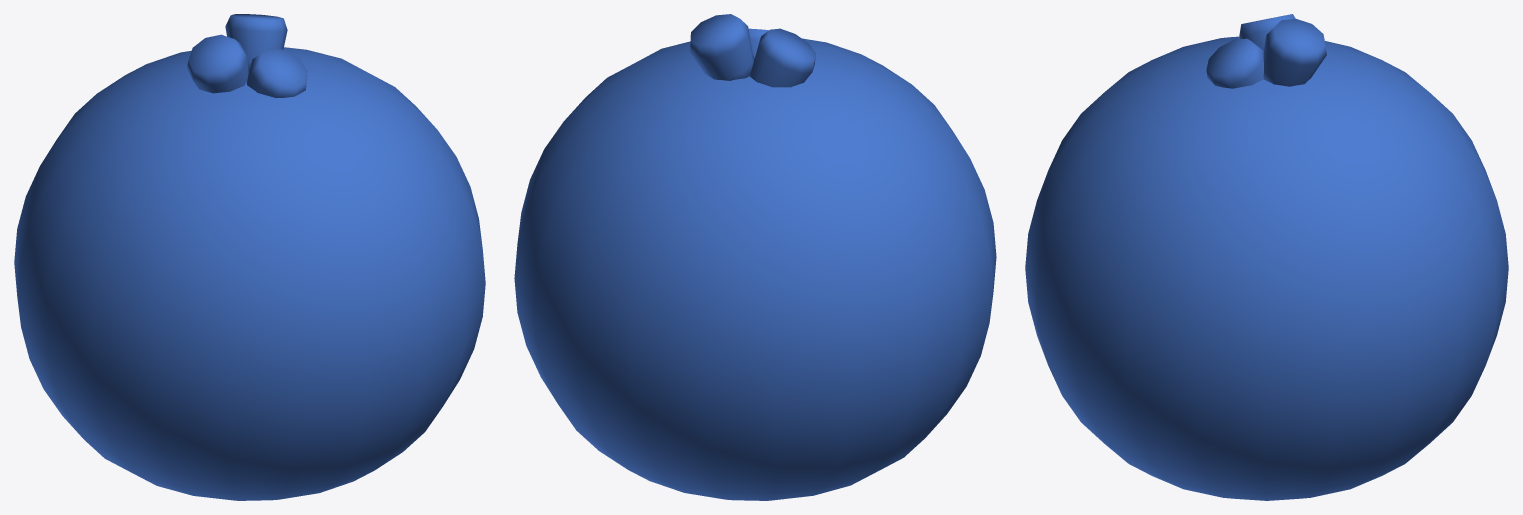
Rendered from BerryBlue.fbx.
3 renders of one model, left to right at view 1: azimuth 30°, elevation 25°; view 2: azimuth 150°, elevation 25°; view 3: azimuth 270°, elevation 25°, orthographic. The views are drawn at different scales.
Parts seen in each view (by area): view 1: BlueBerry1; view 2: BlueBerry1; view 3: BlueBerry1.
Boxes of the visible parts, <box> form: BlueBerry1: <box>14,14,485,500</box>; BlueBerry1: <box>514,14,996,500</box>; BlueBerry1: <box>1025,14,1508,500</box>.
Size of the model in its own units: 1.97 by 2.04 by 1.97.
